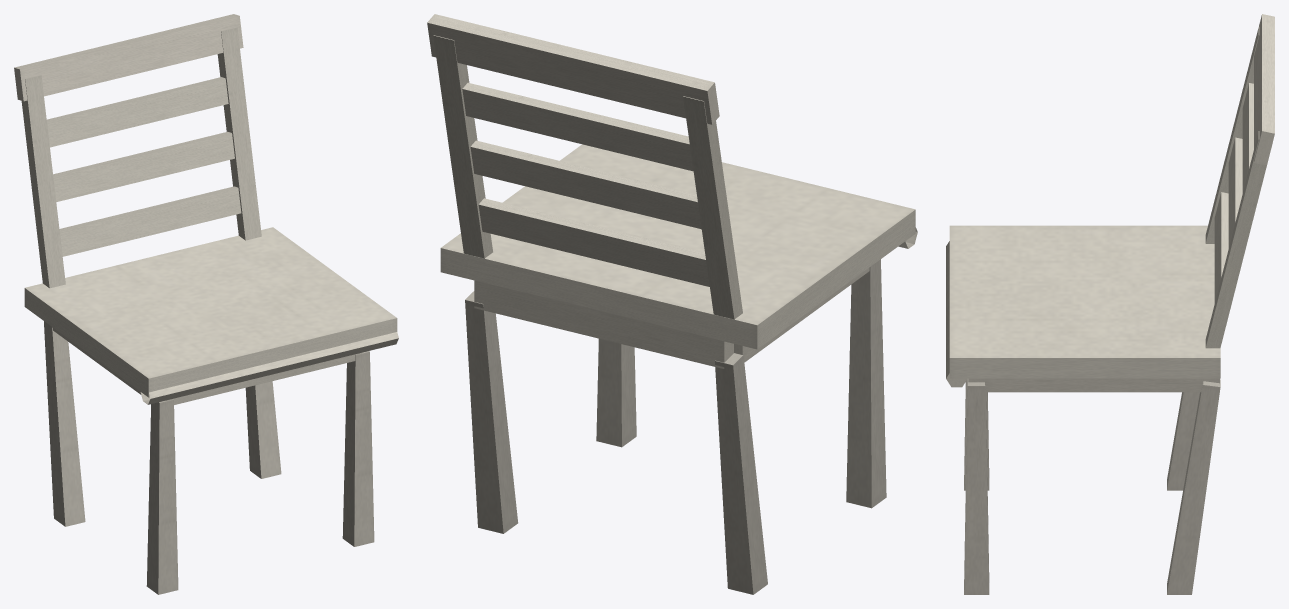
Rendered from pool_chair.glb.
3 views of the same model, side by side, from view 1: azimuth 30°, elevation 25°; view 2: azimuth 150°, elevation 25°; view 3: azimuth 270°, elevation 25° (orthographic). The views are drawn at different scales.
Visible parts, largest first — view 1: core_pool_chair; view 2: core_pool_chair; view 3: core_pool_chair.
Part boxes in pixels (left/top/right/bottom): core_pool_chair: left=14, top=14, right=398, bottom=594; core_pool_chair: left=427, top=14, right=917, bottom=594; core_pool_chair: left=946, top=14, right=1274, bottom=594.
Size of the model in its own units: 0.52 by 0.8517 by 0.5462.
1 material, 1 textured.
